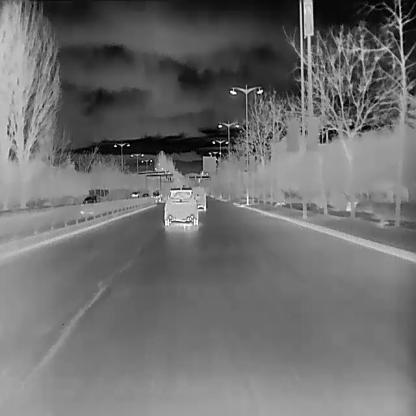car: (162, 185, 199, 225), (190, 184, 206, 210), (79, 194, 98, 214), (150, 190, 162, 202), (140, 192, 149, 198)
truck: (130, 190, 140, 198)
